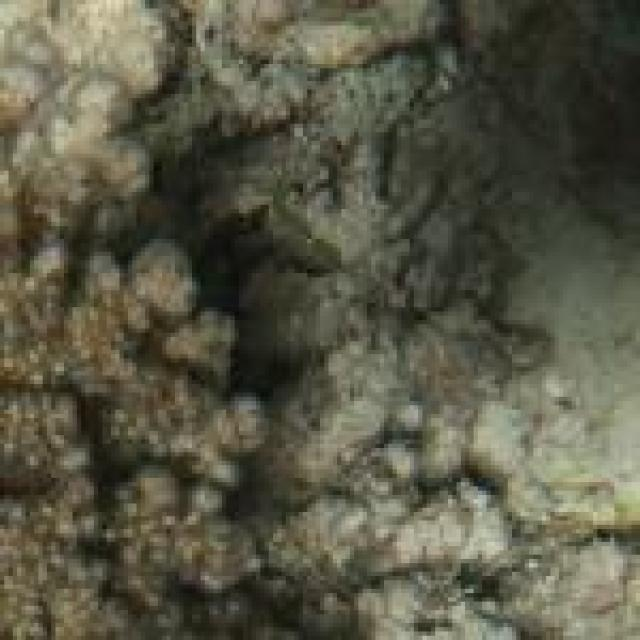Bleached Coral: (0, 0, 223, 217)
Dead Coral: (0, 225, 640, 640)
